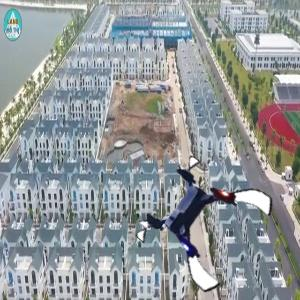drone: (147, 161, 267, 281)
